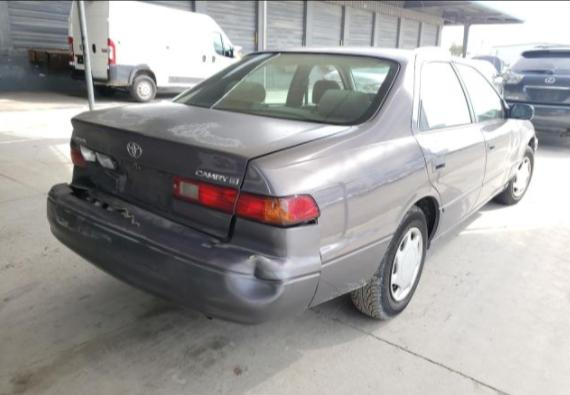Broken part: (47, 179, 321, 323), (70, 145, 123, 175)
Dent: (224, 254, 287, 303), (72, 166, 122, 195)
Missing part: (126, 162, 169, 208)
